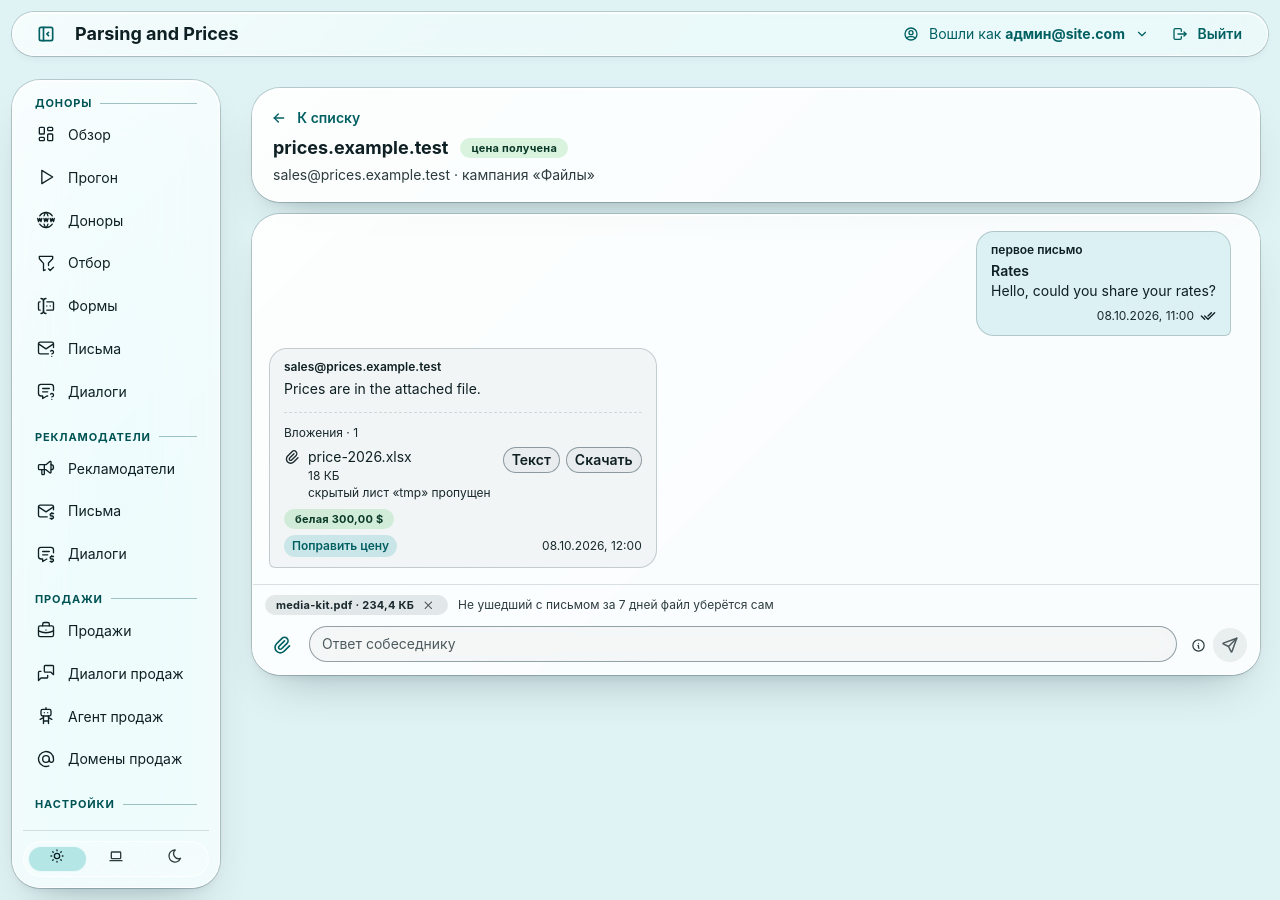
Test: файлы нашего ответа › загруженный и не ушедший файл — после перезагрузки на месте, убирается крестиком
Expected: the heading "prices.example.test" is shown, [273, 135, 448, 161]
Expected: the text box named "Текст ответа" is shown, [309, 626, 1177, 662]
Click the button named "Убрать media-kit.pdf". click: (428, 605)
box: [419, 596, 437, 614]
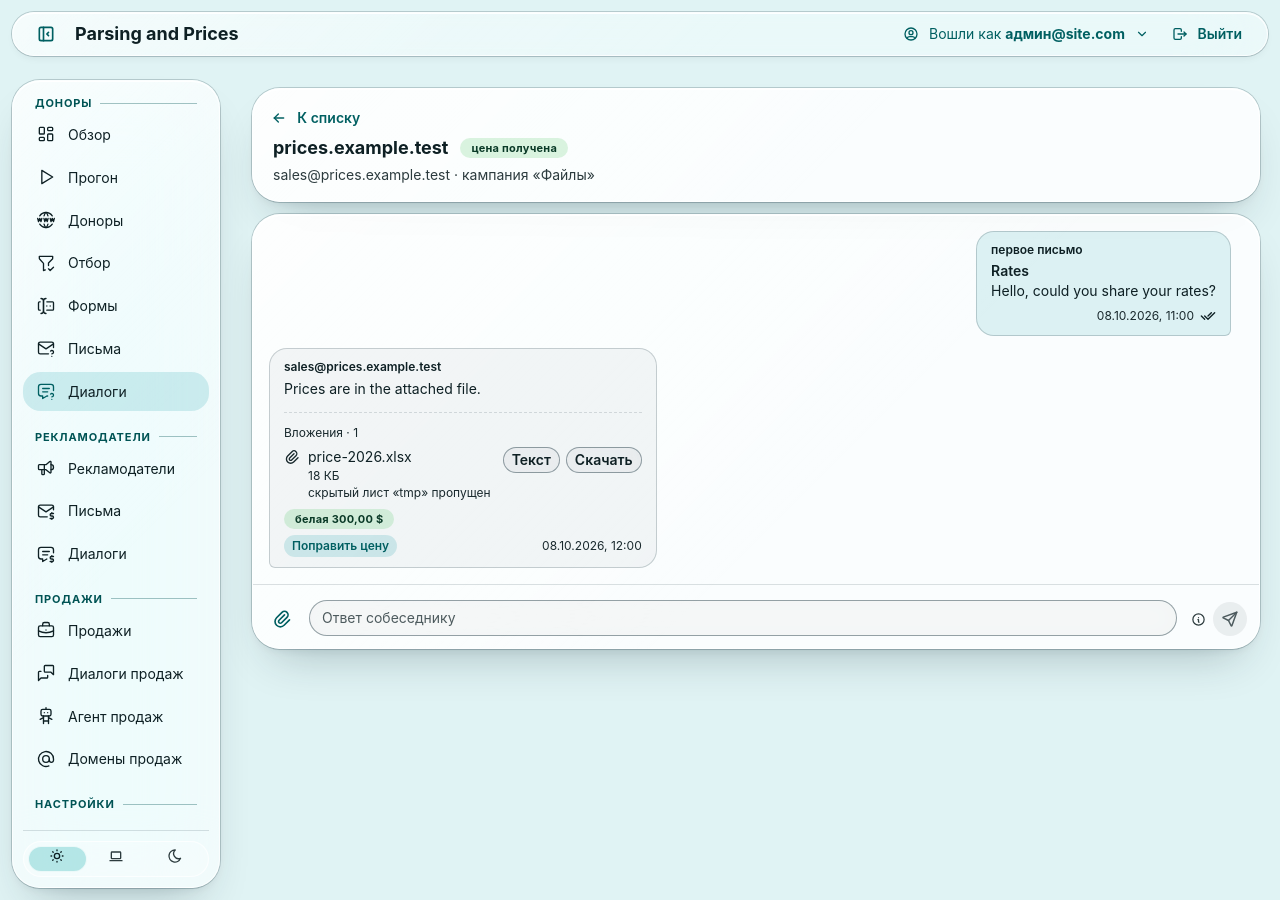
Expected: the text "media-kit.pdf" is gone
Expected: the text "уберётся сам" is gone
